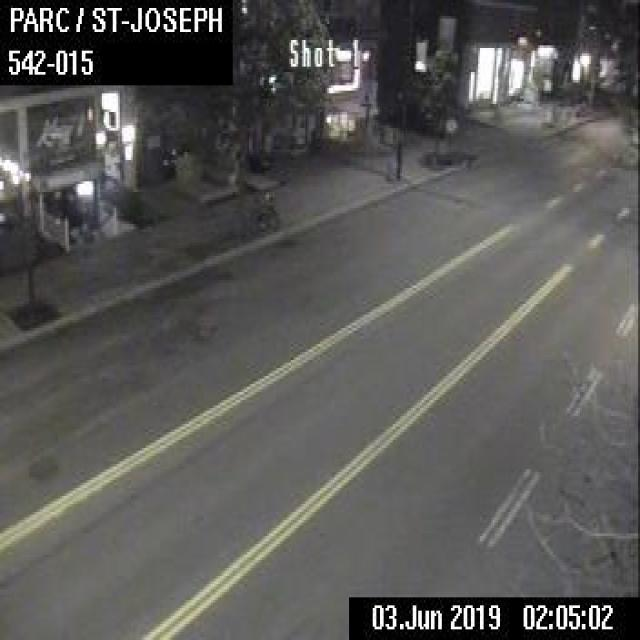vehicle: (387, 99, 431, 133), (436, 107, 464, 141), (618, 130, 638, 162)
